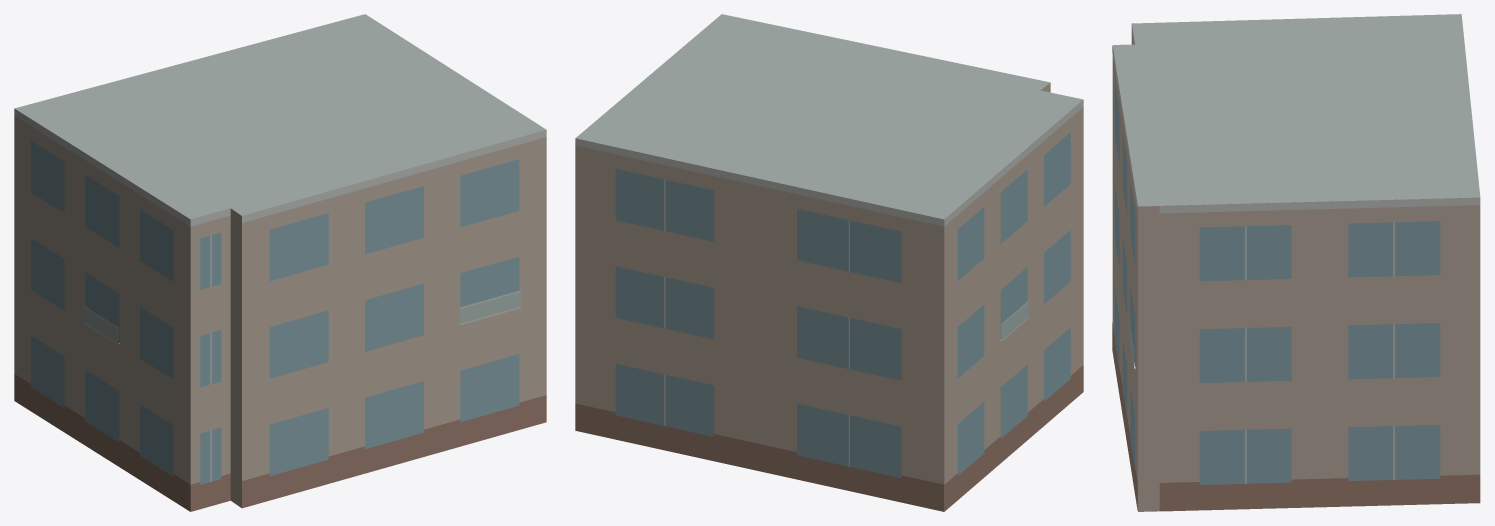
Rendered from survey-upis-32701699.glb.
The picture shows the model from 3 angles, left to right: view 1: azimuth 30°, elevation 25°; view 2: azimuth 150°, elevation 25°; view 3: azimuth 270°, elevation 25°; orthographic projection. The views are drawn at different scales.
Parts seen in each view (by area): view 1: survey-upis-32701699.tmp; view 2: survey-upis-32701699.tmp; view 3: survey-upis-32701699.tmp.
Boxes of the visible parts, box(x1,y1,x2,y2) form: survey-upis-32701699.tmp: box(14, 14, 546, 511); survey-upis-32701699.tmp: box(575, 14, 1083, 511); survey-upis-32701699.tmp: box(1112, 14, 1480, 511).
Bounding box in the file's own units: 13.38 × 9.9 × 10.82.
